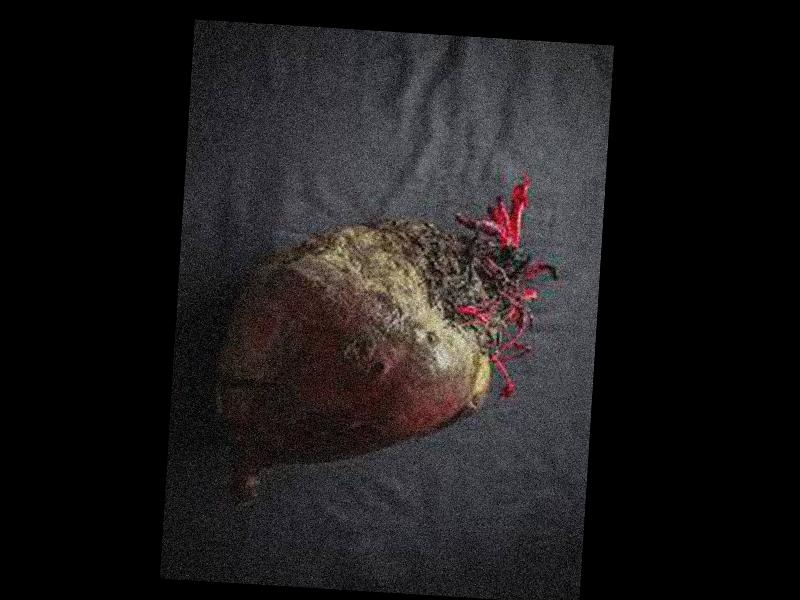Beet: (210, 158, 563, 527)
